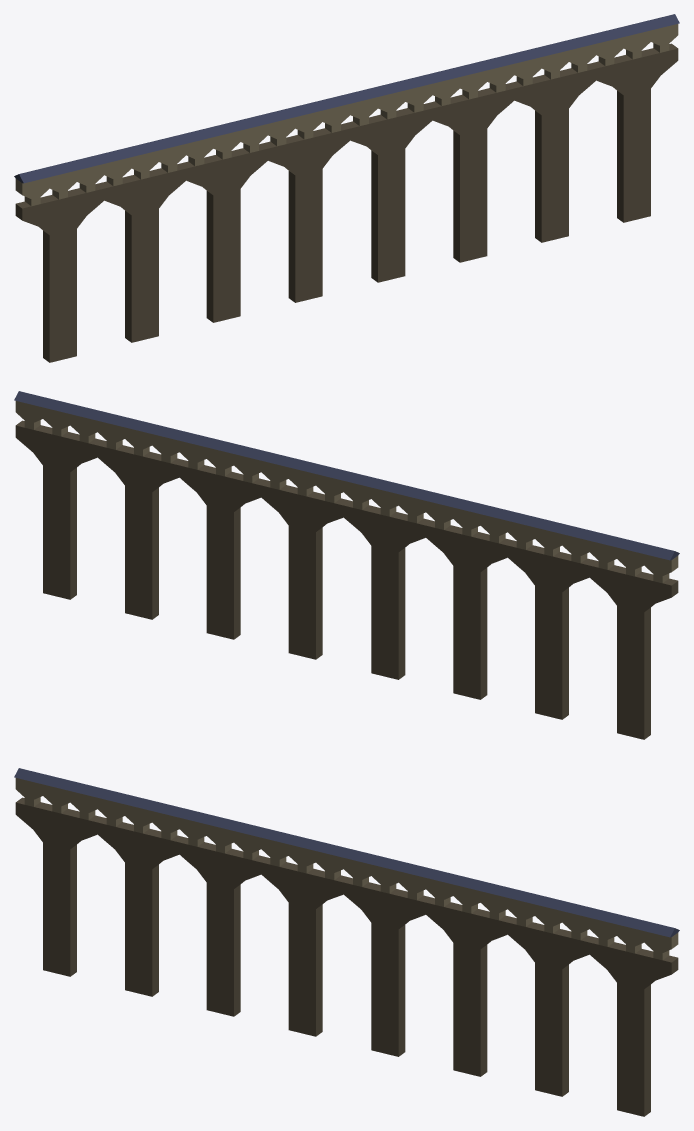
The model's file is mainbridge.fbx.
The picture shows the model from 3 angles, top to bottom: view 1: azimuth 30°, elevation 25°; view 2: azimuth 150°, elevation 25°; view 3: azimuth 330°, elevation 25°; orthographic projection.
Visible parts, largest first — view 1: Cube.001; view 2: Cube.001; view 3: Cube.001.
Boxes of the visible parts, x1=… form: Cube.001: x1=14, y1=14, x2=679, y2=362; Cube.001: x1=14, y1=391, x2=679, y2=739; Cube.001: x1=14, y1=768, x2=679, y2=1116.
Bounding box in the file's own units: 11346 × 3187 × 296.
